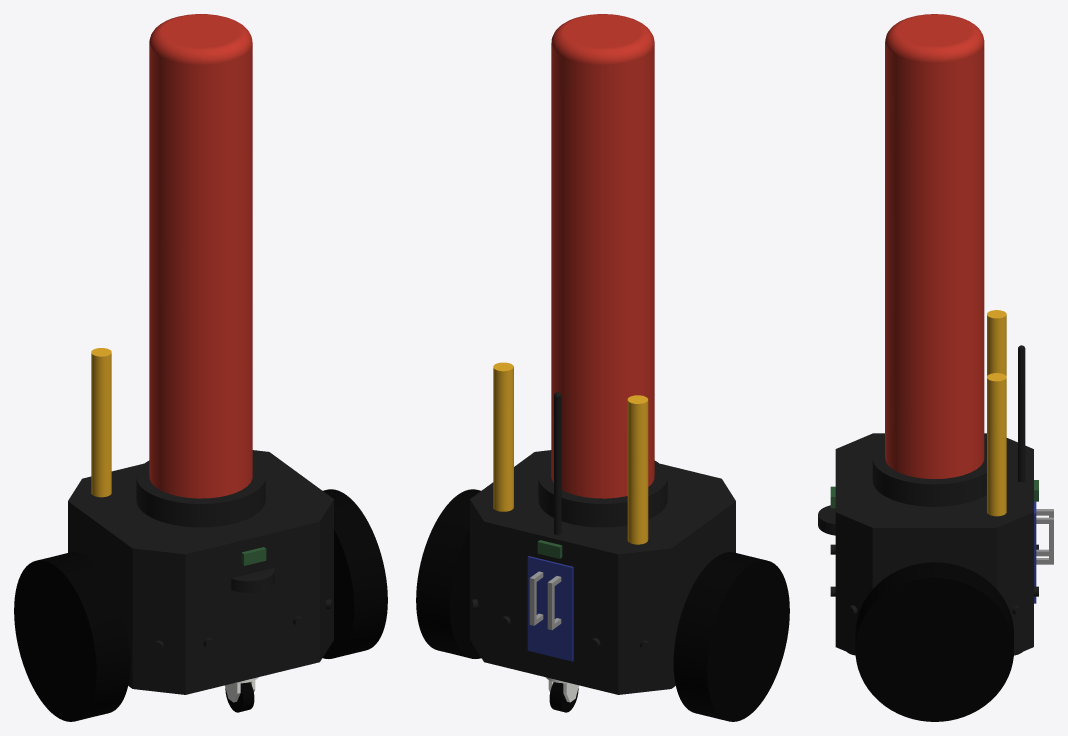
File: cto camp.fbx
3 renders of one model, left to right at view 1: azimuth 30°, elevation 25°; view 2: azimuth 150°, elevation 25°; view 3: azimuth 270°, elevation 25°, orthographic. The views are drawn at different scales.
Visible parts, largest first — view 1: Body16, Body1, Body3, Body2, Body15, Body10, Body4; view 2: Body16, Body1, Body3, Body2, Body9, Body15, Body10, Body11, Body12; view 3: Body16, Body1, Body2, Body15, Body11, Body10, Body12, Body4, Body18.
Part boxes in pixels (bbox=[...]): Body16: bbox=[149, 14, 252, 498]; Body1: bbox=[68, 450, 333, 694]; Body3: bbox=[14, 552, 130, 721]; Body2: bbox=[323, 489, 387, 658]; Body15: bbox=[136, 460, 265, 527]; Body10: bbox=[91, 348, 111, 497]; Body4: bbox=[231, 568, 274, 592]; Body16: bbox=[551, 14, 654, 498]; Body1: bbox=[470, 450, 735, 694]; Body3: bbox=[673, 552, 789, 721]; Body2: bbox=[416, 489, 481, 658]; Body9: bbox=[527, 556, 573, 661]; Body15: bbox=[538, 460, 667, 527]; Body10: bbox=[627, 395, 648, 544]; Body11: bbox=[493, 362, 513, 511]; Body12: bbox=[554, 392, 561, 534]; Body16: bbox=[885, 14, 984, 478]; Body1: bbox=[830, 433, 1033, 655]; Body2: bbox=[855, 562, 1013, 721]; Body15: bbox=[872, 442, 986, 506]; Body11: bbox=[987, 373, 1006, 516]; Body10: bbox=[987, 310, 1006, 375]; Body12: bbox=[1018, 345, 1025, 482]; Body4: bbox=[818, 505, 835, 535]; Body18: bbox=[1036, 517, 1053, 564].
Size of the model in its own units: 130 by 277 by 95.
